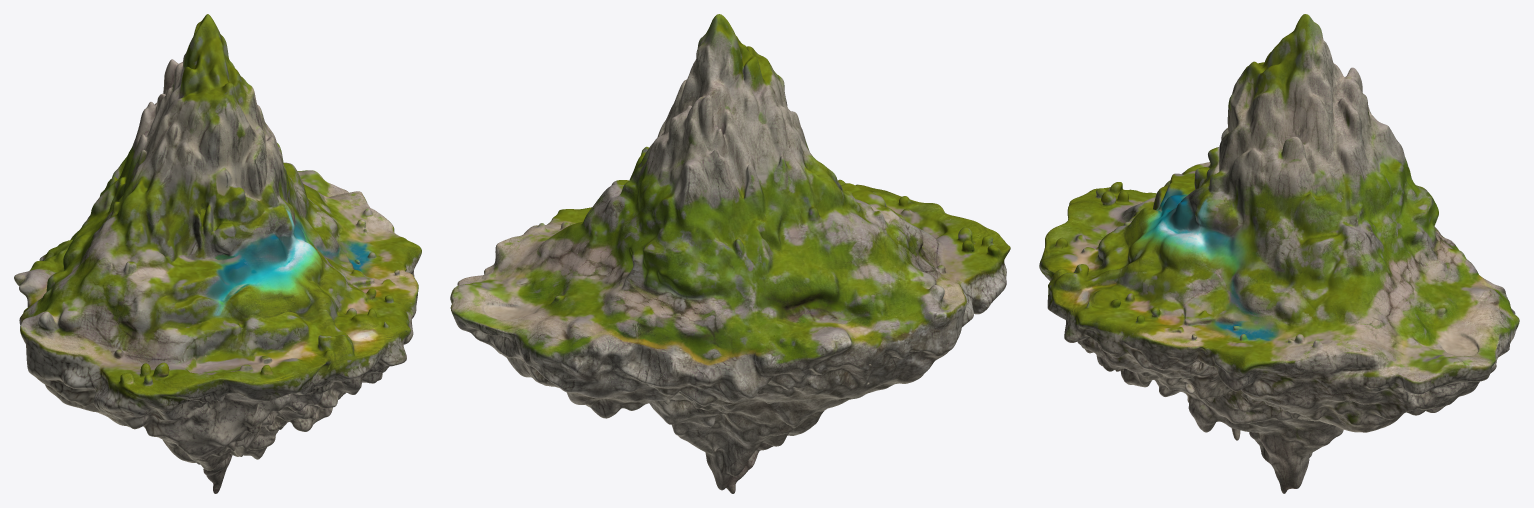
File: Meshy_AI_The_object_is_a_float_1017060224_texture.fbx
3 views of the same model, side by side, from view 1: azimuth 30°, elevation 25°; view 2: azimuth 150°, elevation 25°; view 3: azimuth 270°, elevation 25° (orthographic). The views are drawn at different scales.
Visible parts, largest first — view 1: Mesh_0; view 2: Mesh_0; view 3: Mesh_0.
Boxes of the visible parts, box(x1,y1,x2,y2) form: Mesh_0: box(14, 14, 421, 493); Mesh_0: box(450, 14, 1010, 493); Mesh_0: box(1039, 14, 1519, 493).
Bounding box in the file's own units: 178 × 200 × 181.
Materials: 1 (1 with a texture image).
